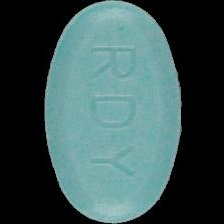0615-6575: (0, 0, 224, 224)
